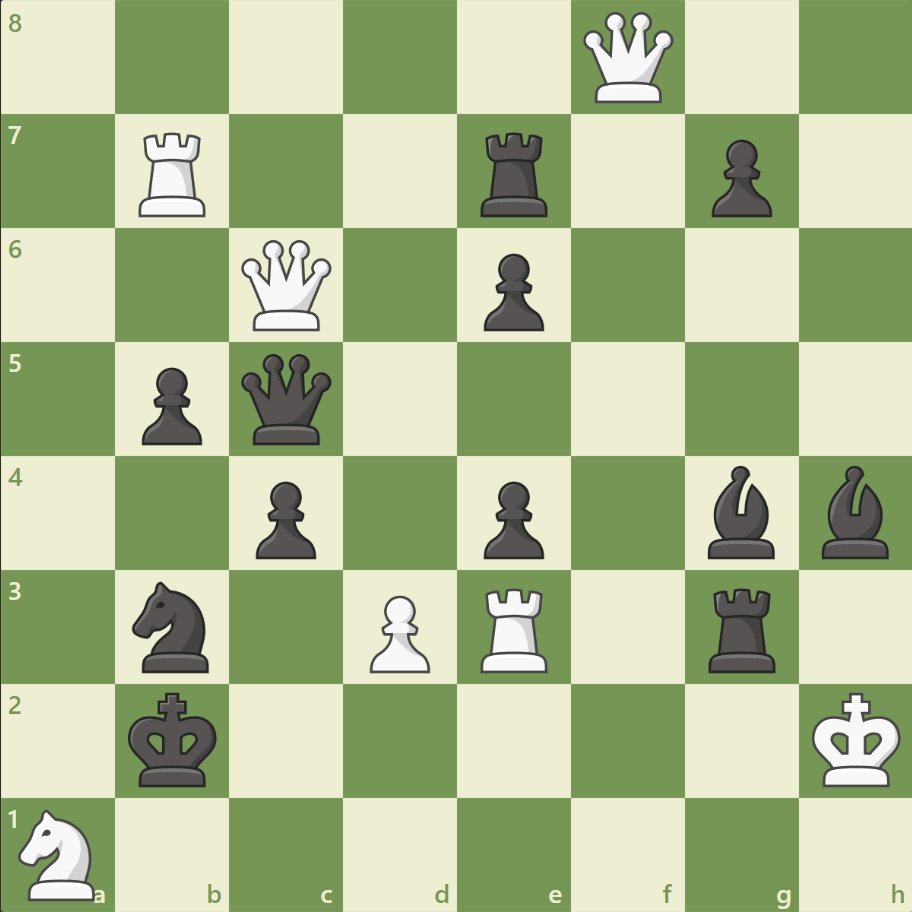K: (806, 685, 906, 793)
N: (11, 802, 108, 904)
P: (361, 586, 435, 677)
Q: (578, 9, 677, 108), (237, 236, 336, 335)
R: (473, 579, 556, 676), (133, 125, 215, 222)
b: (698, 460, 782, 563), (812, 460, 896, 563)
k: (124, 685, 224, 793)
n: (124, 575, 222, 677)
p: (701, 132, 776, 223), (474, 246, 549, 337), (133, 359, 208, 450), (247, 473, 322, 564), (474, 473, 549, 564)
q: (237, 349, 336, 449)
r: (473, 125, 556, 222), (700, 579, 783, 676)
